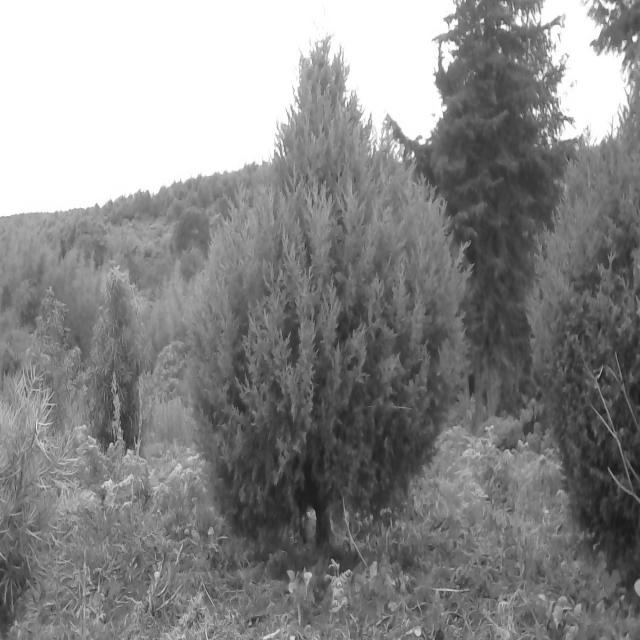Juniperus procesera: (184, 44, 466, 534), (430, 0, 568, 407), (529, 101, 640, 564)
Podocarpus falcatus: (0, 372, 69, 629), (90, 267, 158, 458)
